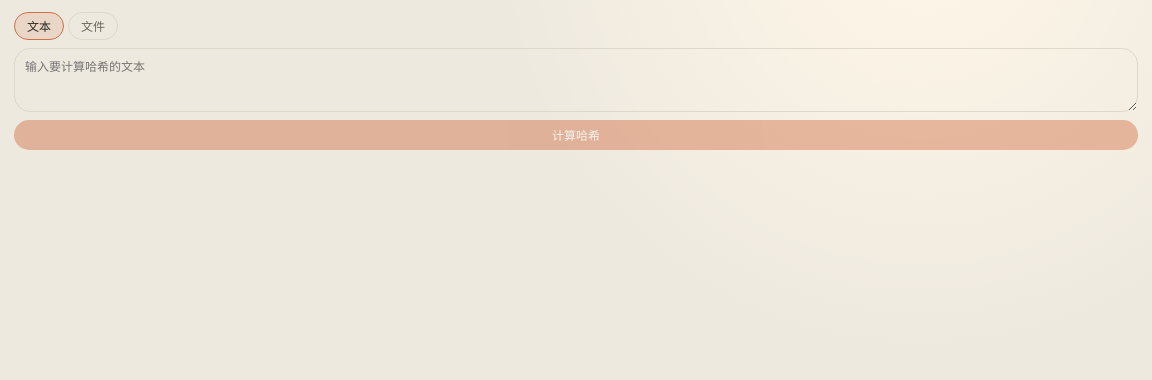
ConverterPane 哈希页 › 文本哈希：四行结果 + 匹配徽标
Type "abc" into the text box with placeholder "输入要计算哈希的文本" at (576, 80), box [14,48,1138,112]
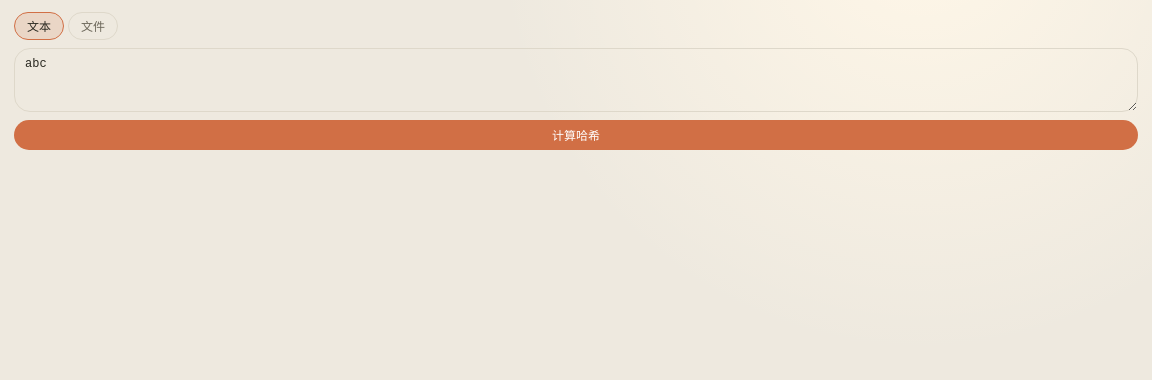
Click the button "计算哈希" at (576, 135), box [14,120,1138,150]
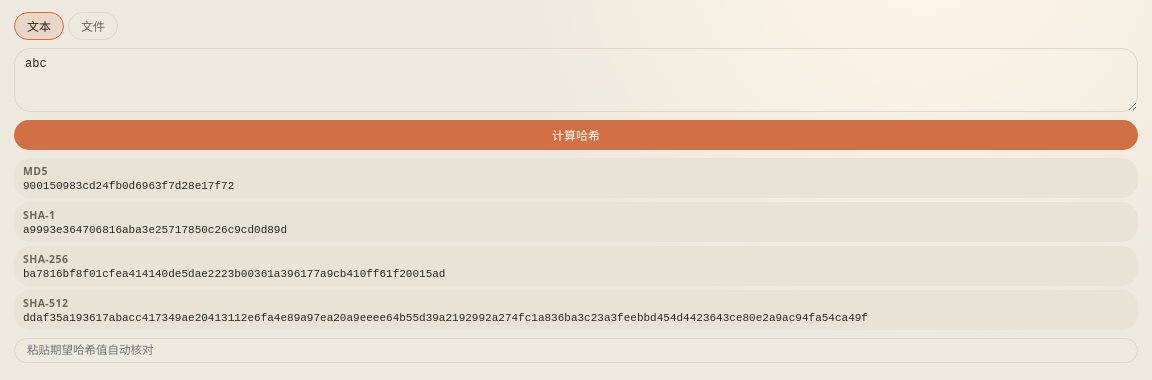
Expected: the text "900150983cd24fb0d6963f7d28e17f72" is shown, [23,180,234,192]
Expected: the text "a9993e364706816aba3e25717850c26c9cd0d89d" is shown, [23,224,287,236]
# 大写粘贴也能核对命中 MD5。
Type "900150983CD24FB0D6963F7D28E17F72" into the field with placeholder "粘贴期望哈希值自动核对" at (576, 350), box [14,338,1138,363]
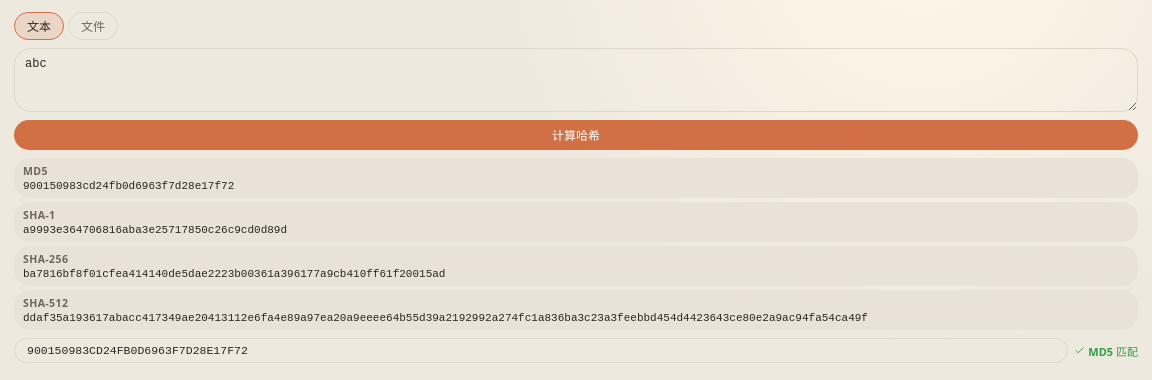
Expected: the text "MD5 匹配" is shown, [1074,342,1138,358]
Replace the text in the field with placeholder "粘贴期望哈希值自动核对" with "deadbeef" at (541, 350), box [14,338,1068,363]
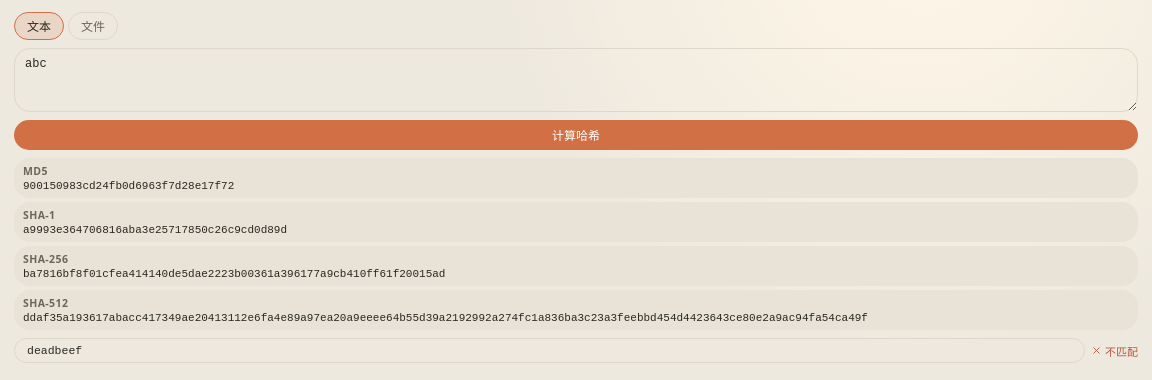
Expected: the text "不匹配" is shown, [1091,342,1138,358]
